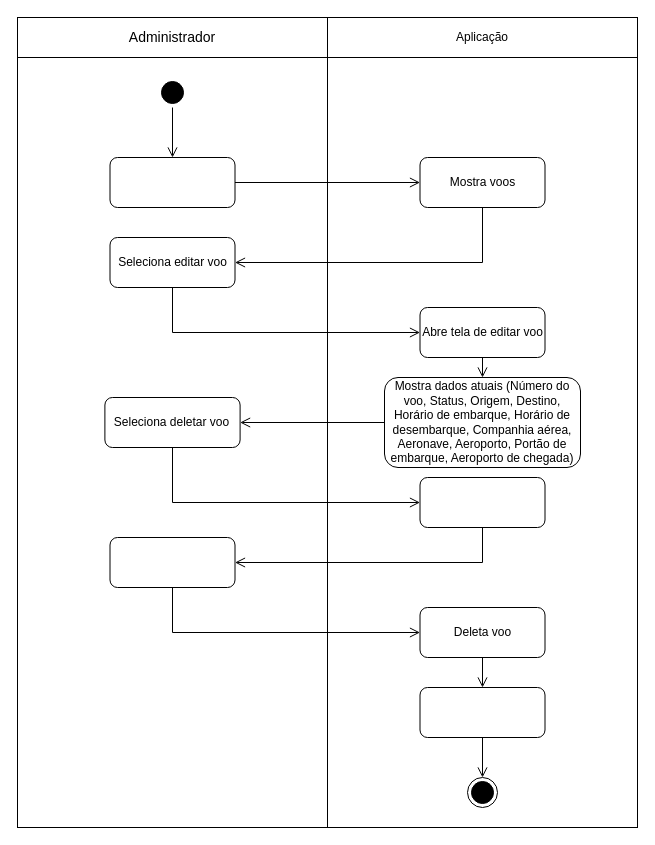
This 655x845 diagram has some shape labels left out. Here are the shapes that lost their labels. From the top down, the centre of each, then its label:
At pixel 172 182: "Entra na tela de ver voos".
At pixel 482 502: "Pergunta se tem certeza".
At pixel 172 562: "Confirma remoção".
At pixel 482 712: "Informa que o voo foi deletado com sucesso".
